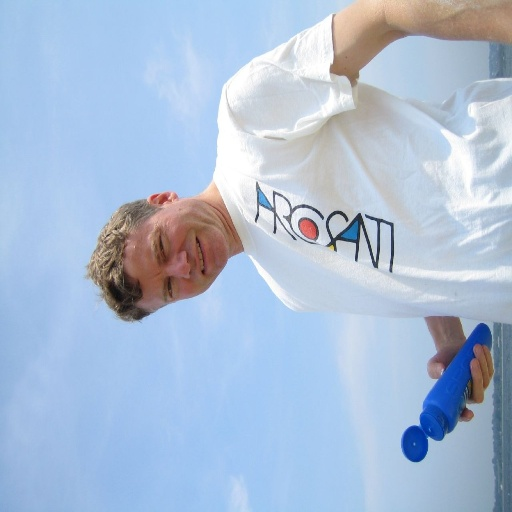hand: (414, 322, 484, 438)
